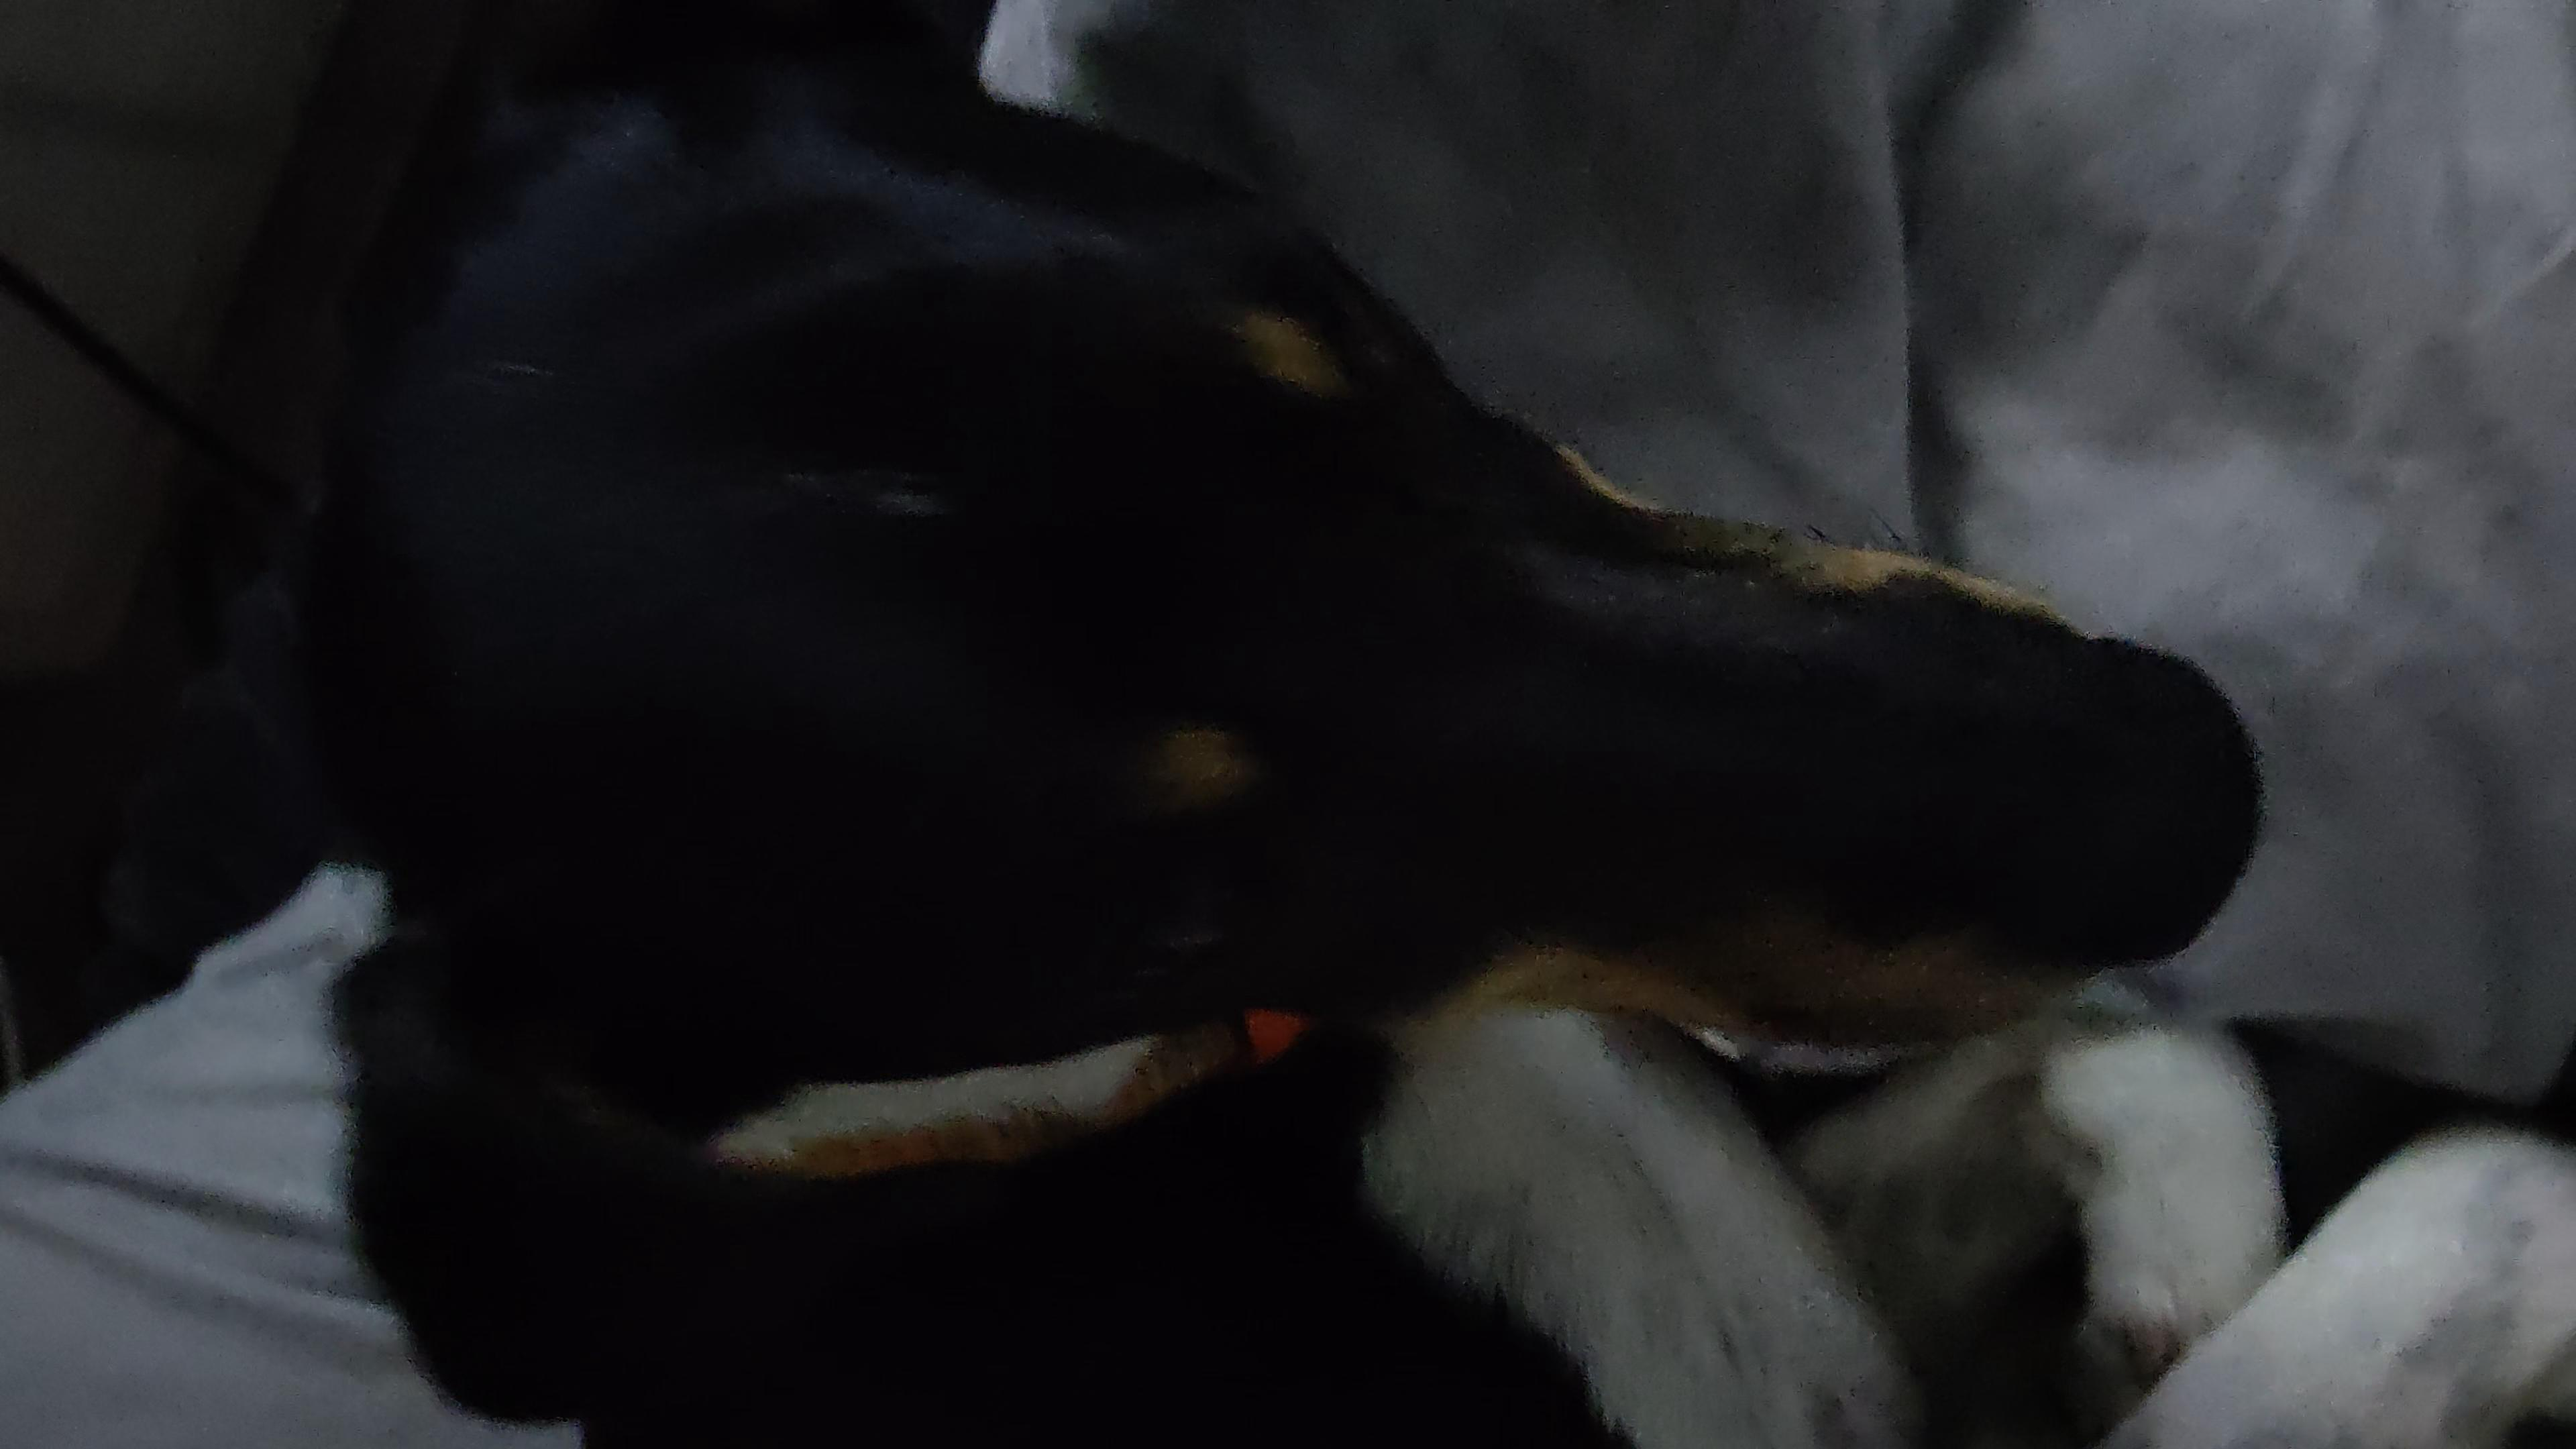Dog: (292, 0, 2576, 1449)
